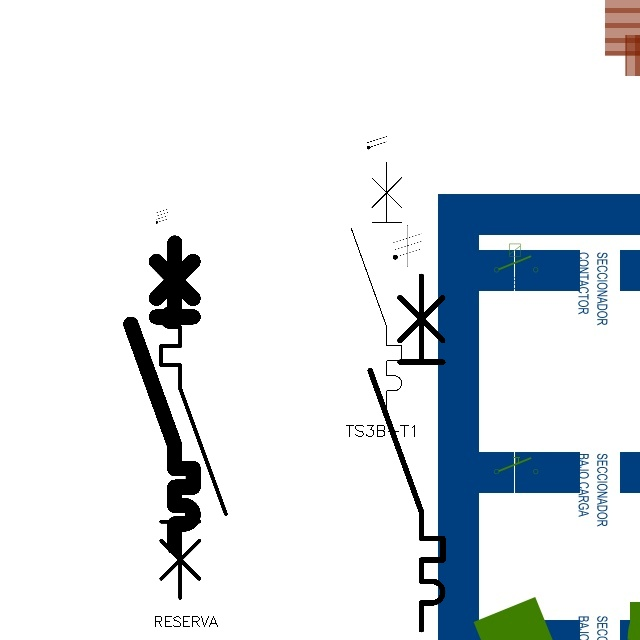interruptor_termomagnetico: (361, 267, 452, 639), (153, 276, 234, 606), (123, 235, 201, 555), (345, 156, 408, 416)
